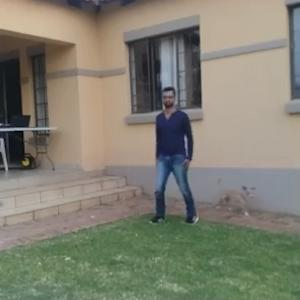follow: (154, 85, 201, 227)
